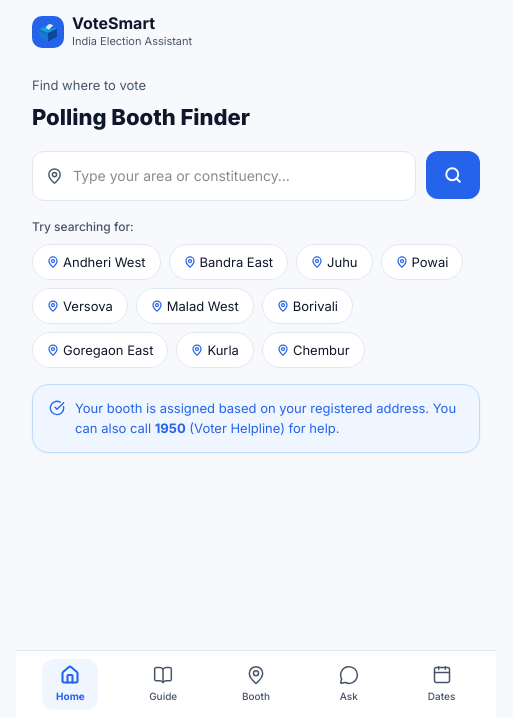
it: BoothPage › shows validation error for single-character input
The image size is (513, 718).
Step 1. Type "A" into the search field with placeholder "Type your area or constituency…" → (224, 176), box [32,151,416,201]
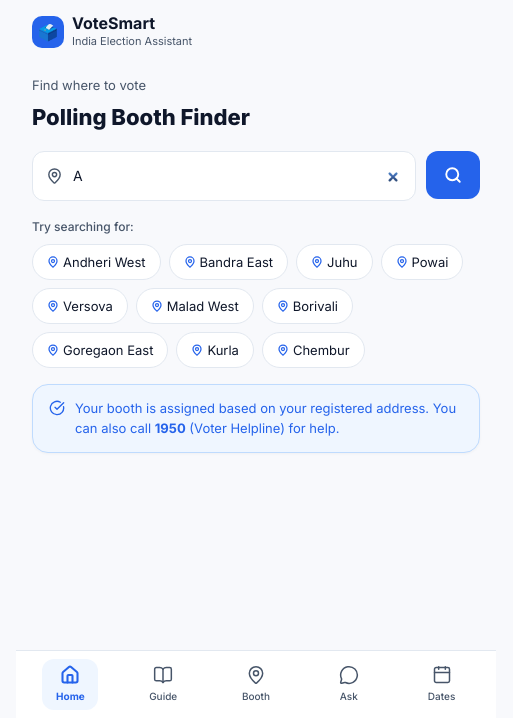
Step 2. Press Enter
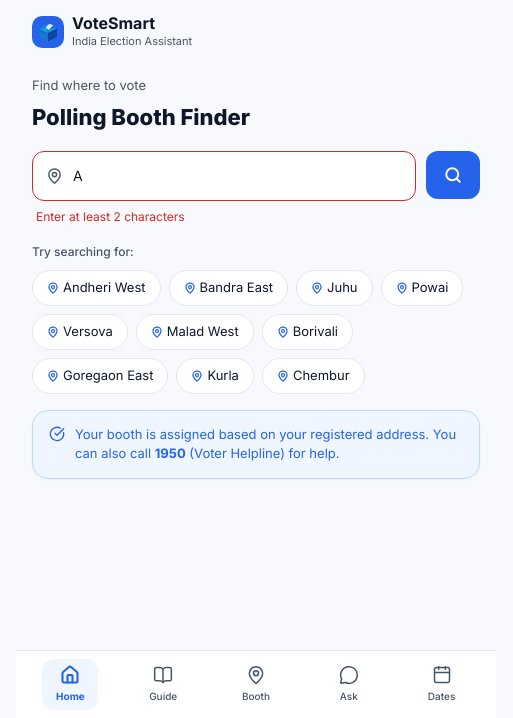
expect the message "Enter at least 2 characters" is shown: met, box [36,209,185,224]
